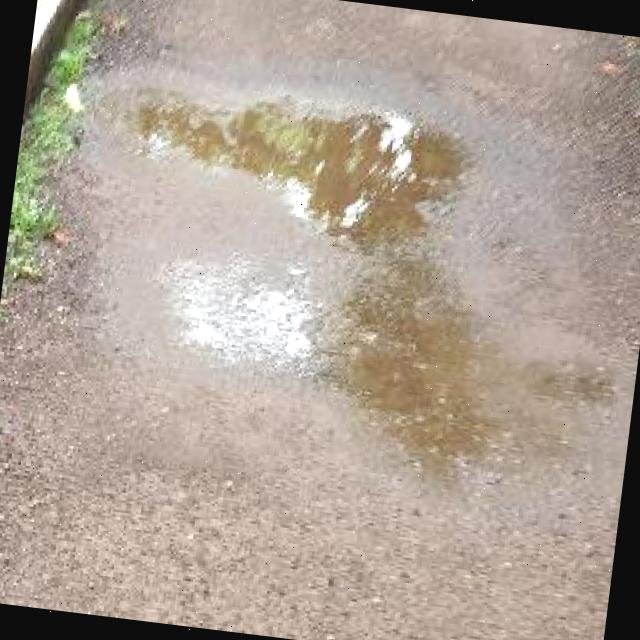stagnation: (79, 70, 513, 282), (272, 267, 554, 507)
